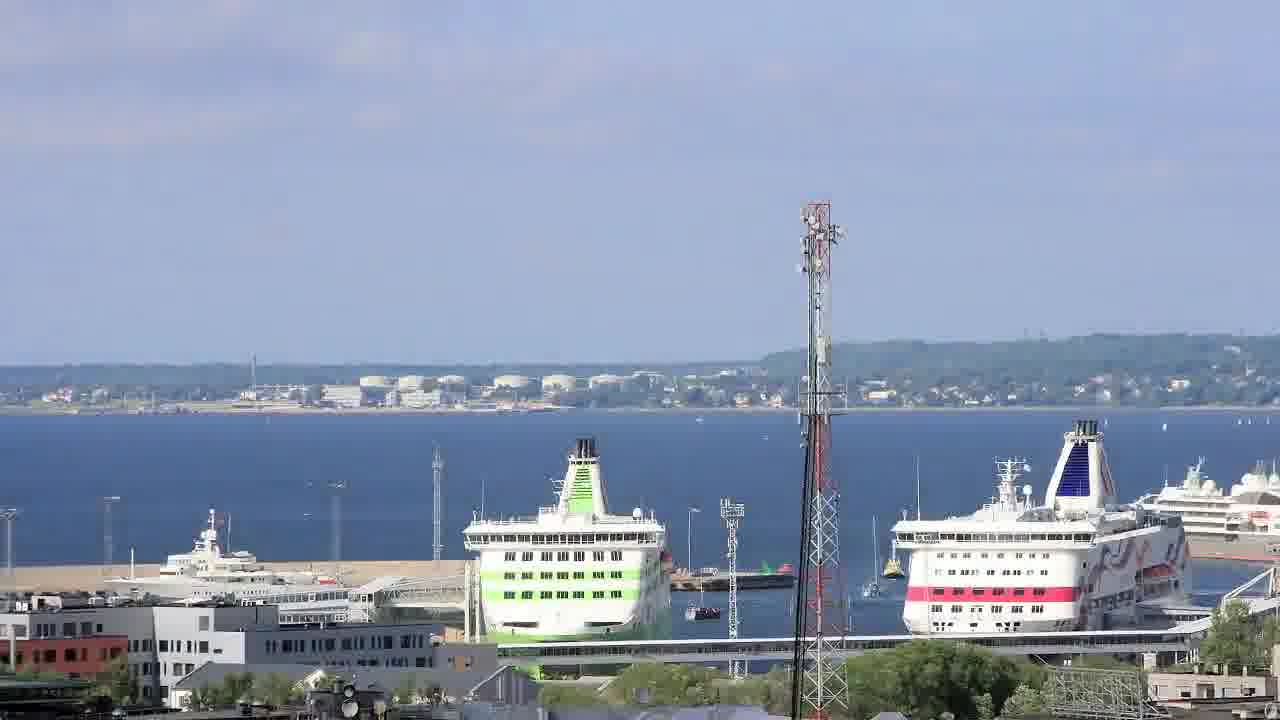type-0: (878, 543, 909, 590)
type-3: (868, 415, 1225, 638), (436, 434, 694, 670), (84, 518, 365, 617), (1139, 459, 1280, 572)
type-4: (681, 594, 734, 626)
